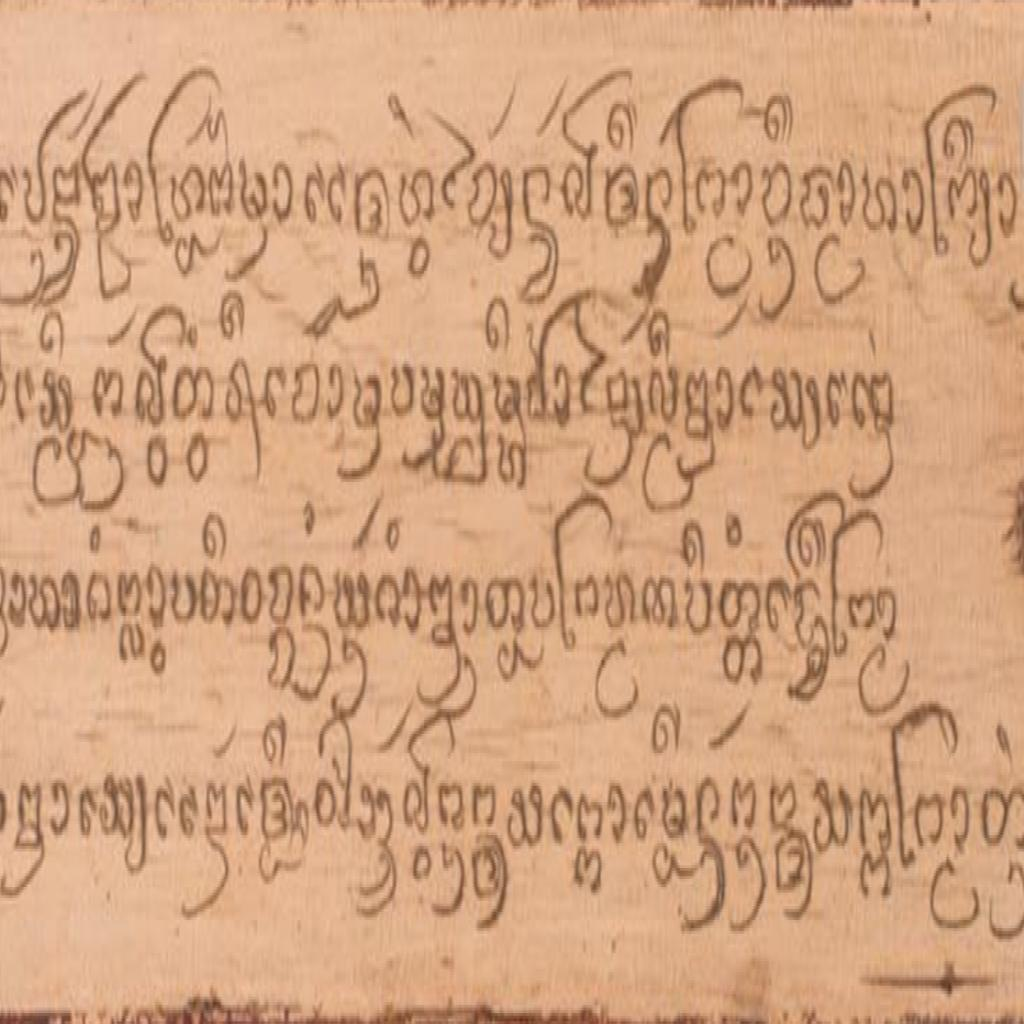LN020: (800, 160, 838, 234)
